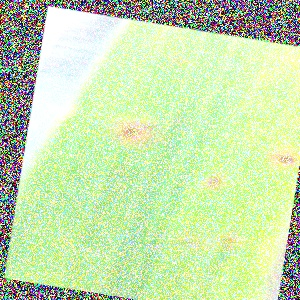Bacterial_Leaf_Blight: (200, 169, 230, 194), (269, 148, 300, 170), (117, 122, 148, 142), (178, 235, 205, 251), (138, 118, 162, 134), (215, 234, 238, 247), (289, 55, 300, 67)
